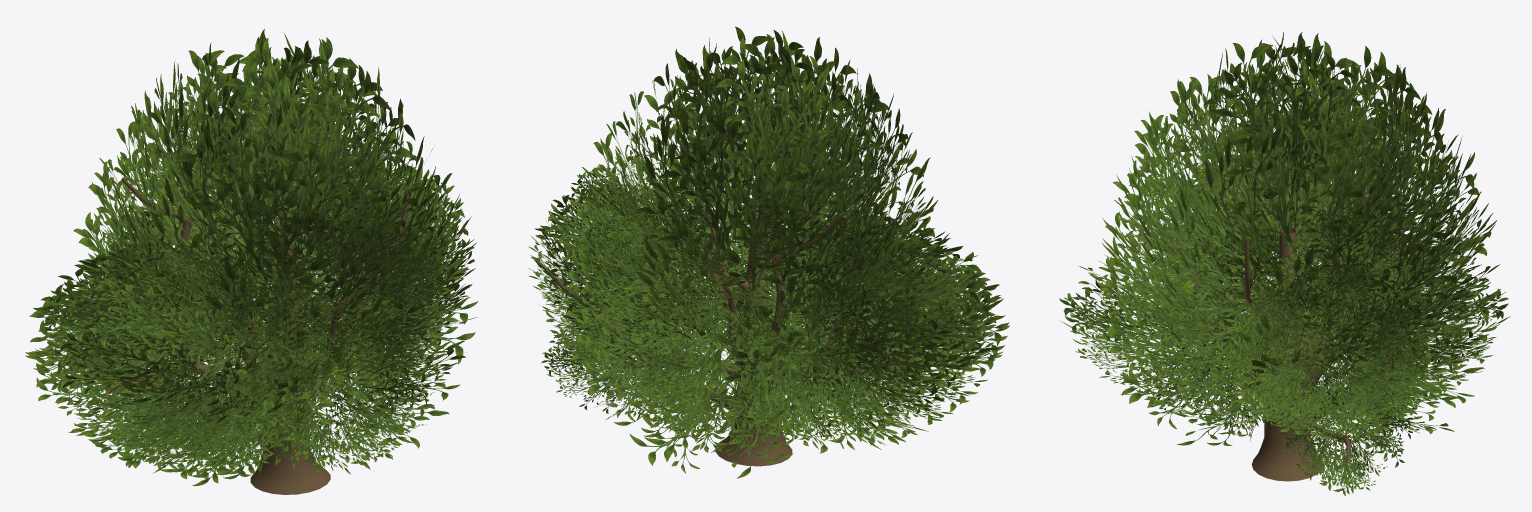
The model's file is Tree.fbx.
3 renders of one model, left to right at view 1: azimuth 30°, elevation 25°; view 2: azimuth 150°, elevation 25°; view 3: azimuth 270°, elevation 25°, orthographic. The views are drawn at different scales.
Parts seen in each view (by area): view 1: pPlane81, pPlane91, pPlane94, pPlane92, pPlane82, pCylinder13, pPlane95, pPlane93, pPlane89; view 2: pPlane81, pPlane91, pPlane92, pPlane82, pPlane93, pCylinder13, pPlane95, pPlane89, pPlane94; view 3: pPlane81, pPlane92, pPlane94, pPlane91, pPlane89, pPlane95, pCylinder13, pPlane93, pPlane82.
Part boxes in pixels (x1=…): pPlane81: x1=73, y1=29, x2=477, y2=486; pPlane91: x1=25, y1=234, x2=355, y2=483; pPlane94: x1=250, y1=307, x2=434, y2=474; pPlane92: x1=256, y1=162, x2=476, y2=356; pPlane82: x1=82, y1=202, x2=275, y2=450; pCylinder13: x1=106, y1=178, x2=419, y2=494; pPlane95: x1=282, y1=128, x2=418, y2=266; pPlane93: x1=158, y1=206, x2=327, y2=434; pPlane89: x1=310, y1=280, x2=444, y2=401; pPlane81: x1=563, y1=26, x2=949, y2=478; pPlane91: x1=705, y1=214, x2=1009, y2=449; pPlane92: x1=528, y1=181, x2=745, y2=384; pPlane82: x1=732, y1=208, x2=920, y2=444; pPlane93: x1=604, y1=285, x2=812, y2=444; pCylinder13: x1=535, y1=143, x2=928, y2=466; pPlane95: x1=568, y1=154, x2=710, y2=282; pPlane89: x1=541, y1=300, x2=691, y2=420; pPlane94: x1=703, y1=183, x2=871, y2=401; pPlane81: x1=1099, y1=32, x2=1501, y2=445; pPlane92: x1=1225, y1=261, x2=1432, y2=446; pPlane94: x1=1059, y1=253, x2=1264, y2=441; pPlane91: x1=1165, y1=141, x2=1413, y2=395; pPlane89: x1=1279, y1=364, x2=1412, y2=495; pPlane95: x1=1279, y1=213, x2=1412, y2=332; pCylinder13: x1=1160, y1=114, x2=1406, y2=481; pPlane93: x1=1303, y1=252, x2=1510, y2=431; pPlane82: x1=1225, y1=141, x2=1412, y2=359.
Size of the model in its own units: 4.84 by 4.4 by 4.42.
